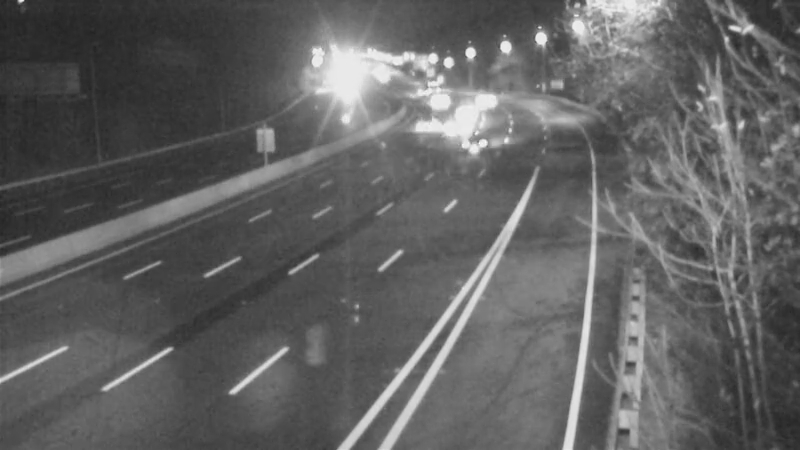vehicle: (413, 74, 463, 124), (456, 71, 506, 121), (443, 84, 493, 134), (398, 98, 448, 148), (435, 103, 485, 153), (451, 119, 501, 169)
